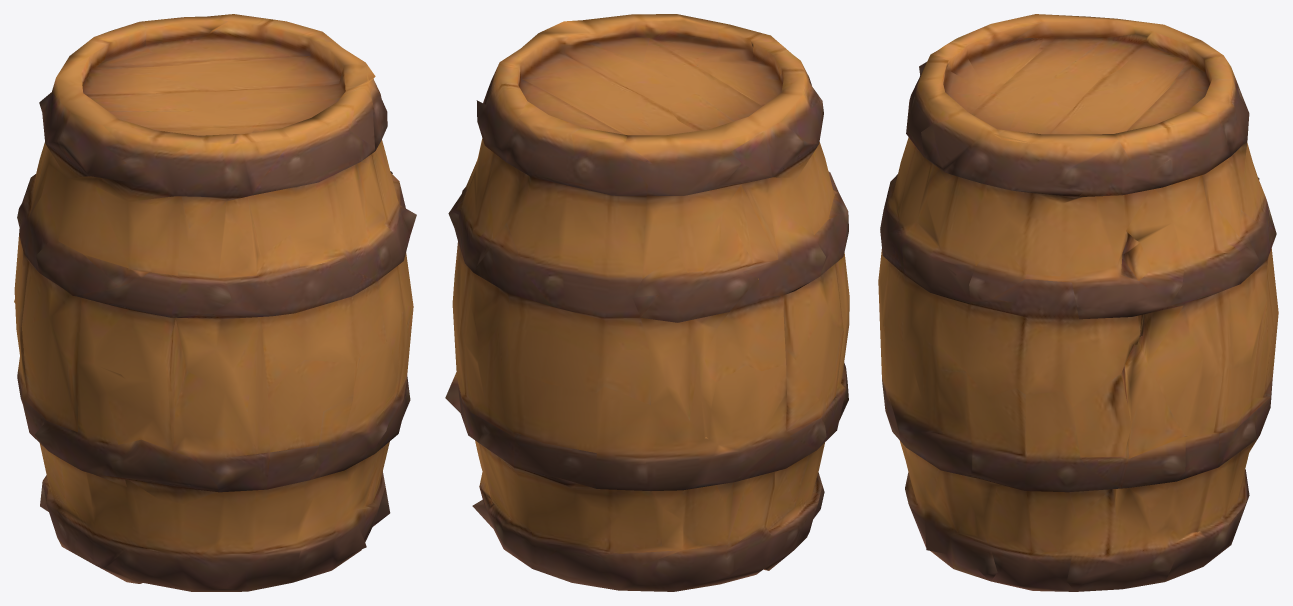
File: model-prop-barrel-breakable-01.glb
The picture shows the model from 3 angles, left to right: view 1: azimuth 30°, elevation 25°; view 2: azimuth 150°, elevation 25°; view 3: azimuth 270°, elevation 25°; orthographic projection.
Parts seen in each view (by area): view 1: tripo_node_5194aad0-43e5-4637-a9db-dd6cc061bba3; view 2: tripo_node_5194aad0-43e5-4637-a9db-dd6cc061bba3; view 3: tripo_node_5194aad0-43e5-4637-a9db-dd6cc061bba3.
Boxes of the visible parts, x1,y1,x2,y2 form: tripo_node_5194aad0-43e5-4637-a9db-dd6cc061bba3: (14, 14, 416, 591); tripo_node_5194aad0-43e5-4637-a9db-dd6cc061bba3: (445, 14, 849, 591); tripo_node_5194aad0-43e5-4637-a9db-dd6cc061bba3: (878, 14, 1278, 591).
Size of the model in its own units: 0.538 by 0.65 by 0.5215.
Materials: 1 (1 with a texture image).
